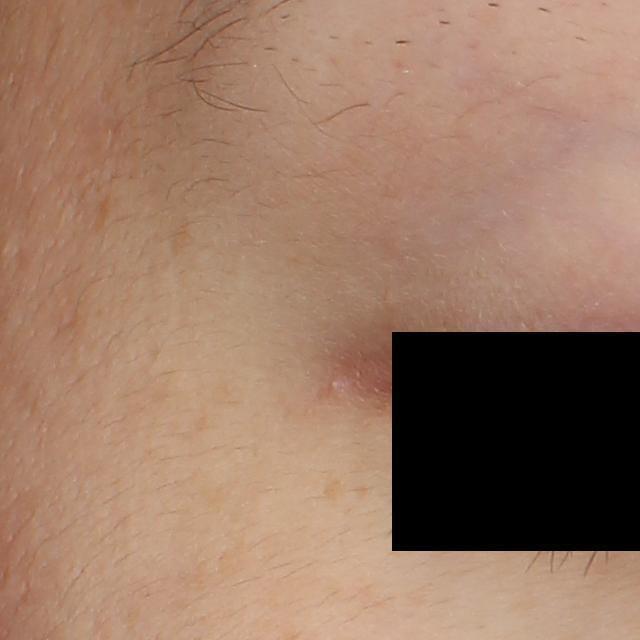melasma: (319, 469, 347, 505)
